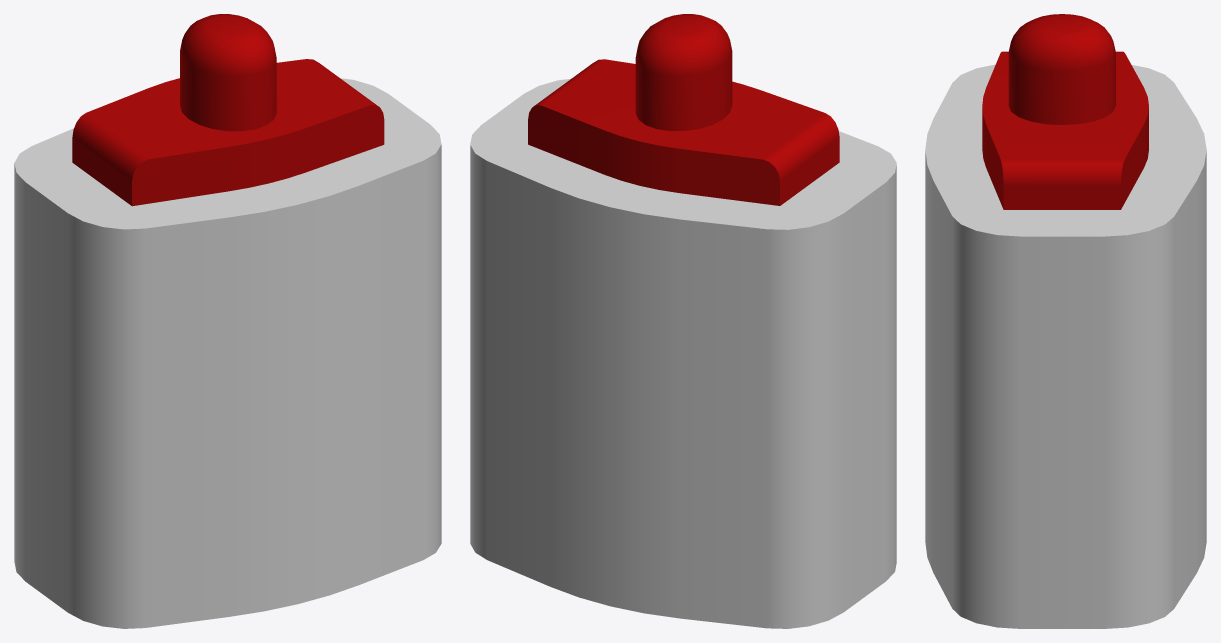
Rendered from Colle_Geo.fbx.
The picture shows the model from 3 angles, left to right: view 1: azimuth 30°, elevation 25°; view 2: azimuth 150°, elevation 25°; view 3: azimuth 270°, elevation 25°; orthographic projection.
Visible parts, largest first — view 1: BaseColle, MilieuColle, Pipette; view 2: BaseColle, MilieuColle, Pipette; view 3: BaseColle, MilieuColle, Pipette.
Part boxes in pixels (x1,y1,x2,y2): BaseColle: (14,78,441,628); MilieuColle: (72,59,384,206); Pipette: (180,14,276,131); BaseColle: (470,79,896,628); MilieuColle: (528,59,839,205); Pipette: (635,14,732,131); BaseColle: (925,64,1206,628); MilieuColle: (982,51,1148,209); Pipette: (1008,14,1115,124).
Bounding box in the file's own units: 3.51 × 4.88 × 2.4.
